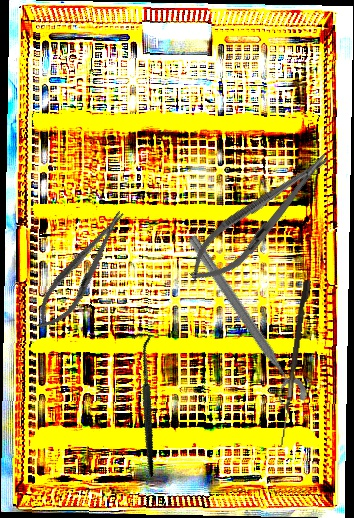Fixation Ring: (174, 231, 311, 414)
Hook Surgical: (81, 328, 206, 478), (280, 279, 311, 449)
Needle Holder: (177, 140, 343, 296), (26, 202, 137, 339)
